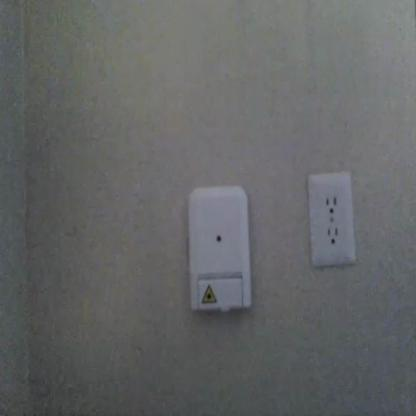OUTLET: (308, 173, 354, 265)
